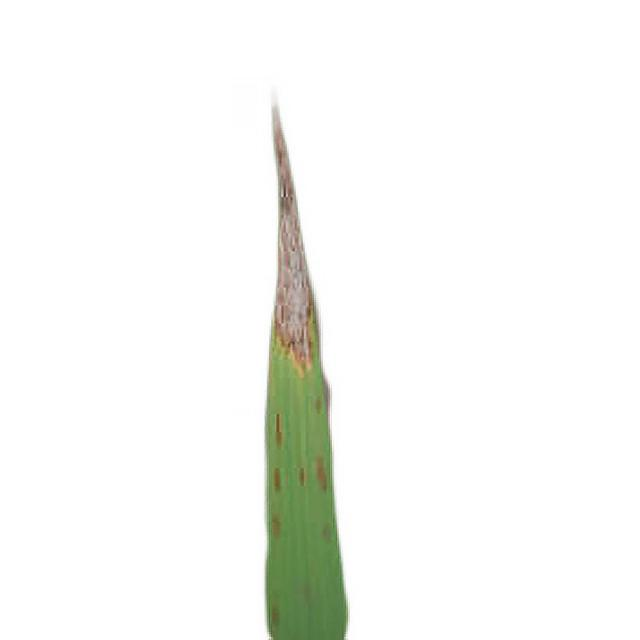Leaf scald: (210, 38, 435, 640)
